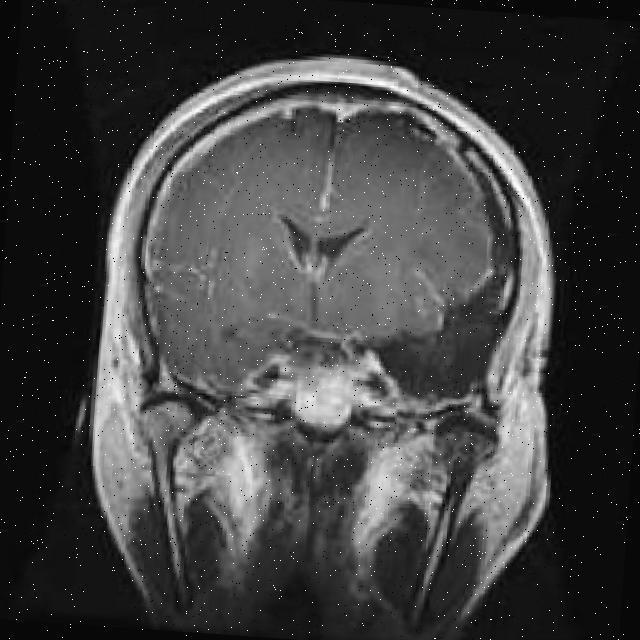MCI: (243, 308, 354, 408)
